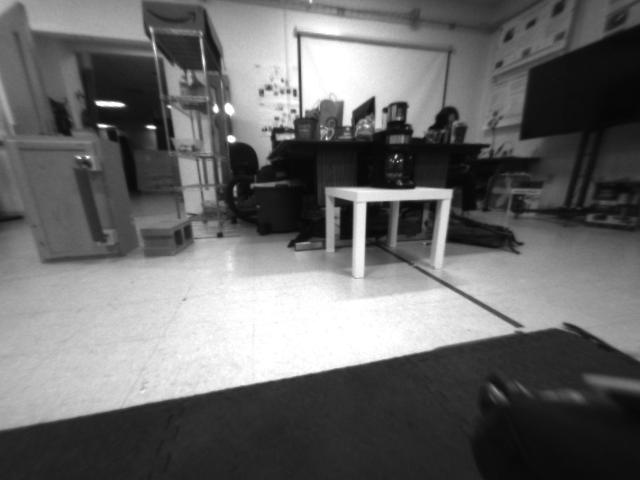coffee_pot: (369, 123, 419, 192)
